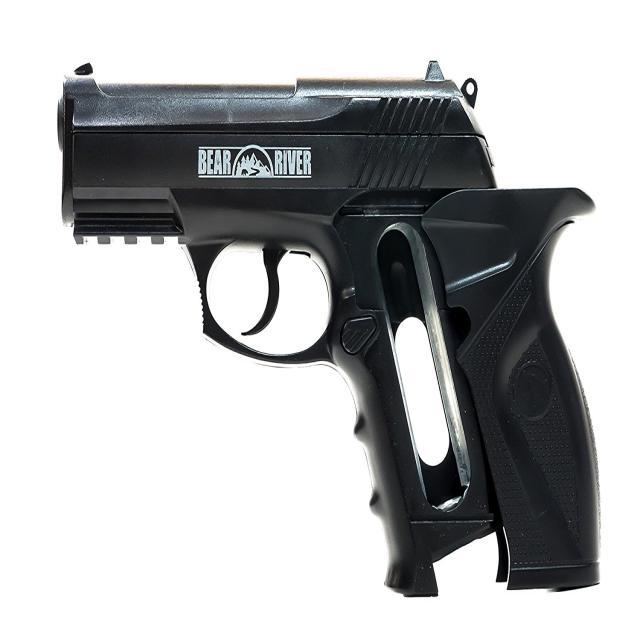Pistol: (49, 33, 639, 618)
